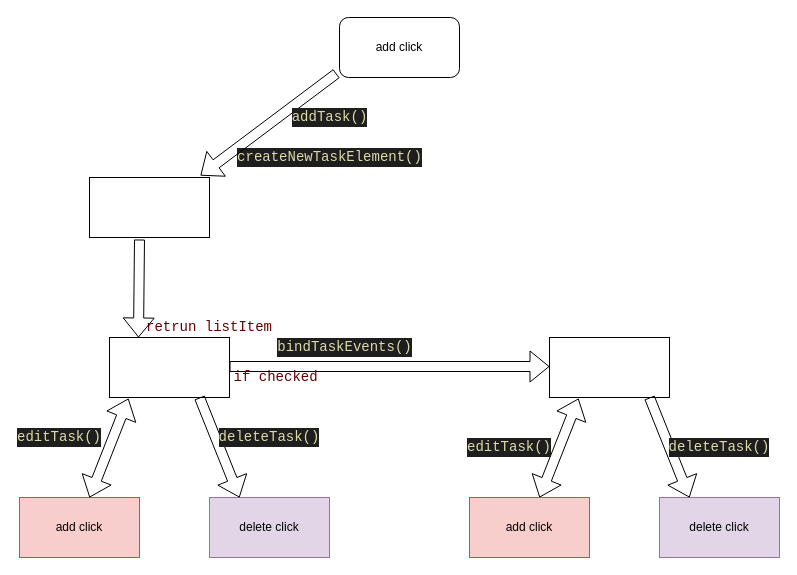
Some shapes in this 797 by 575 pixel diagram are drawn without their labels. The shapes that lost their labels are listed below. From the top down, each one's centre as x and y in pixels, then its label:
At [149,207]: "collect value".
At [169,367]: "Incomplete".
At [609,367]: "complete".
